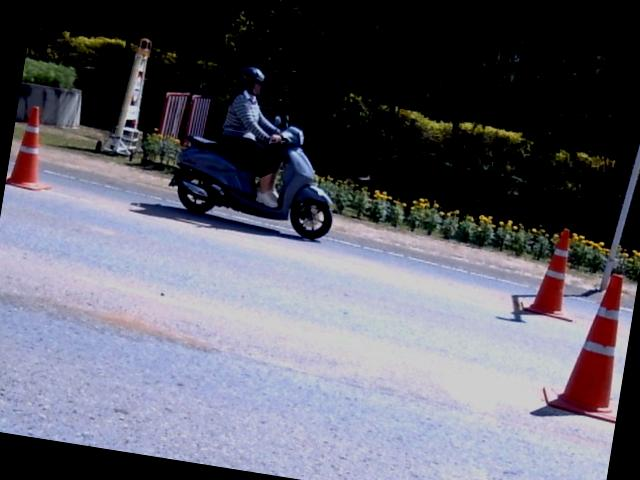helmet: (239, 66, 264, 95)
motor: (169, 127, 331, 239)
person: (218, 68, 281, 207)
